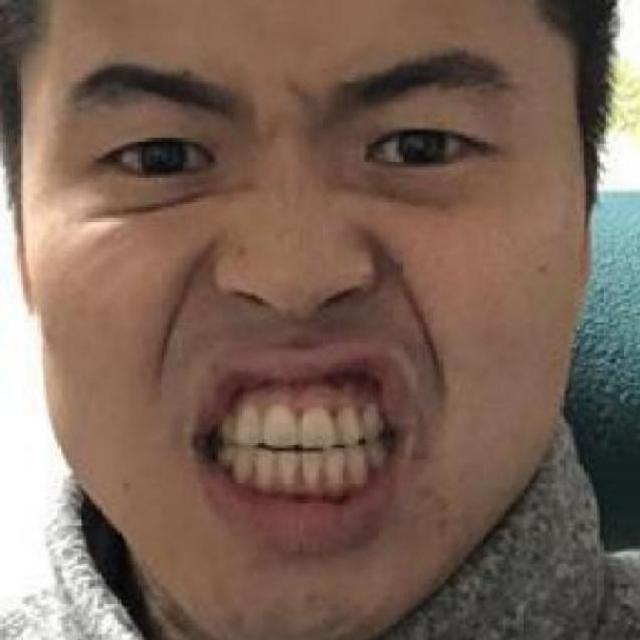angry: (75, 55, 523, 610)
